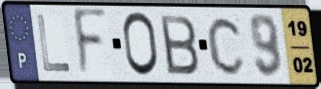9: (248, 12, 285, 81)
B: (157, 13, 201, 77)
C: (206, 14, 248, 77)
F: (71, 6, 109, 81)
L: (35, 13, 73, 74)
O: (121, 10, 161, 79)
